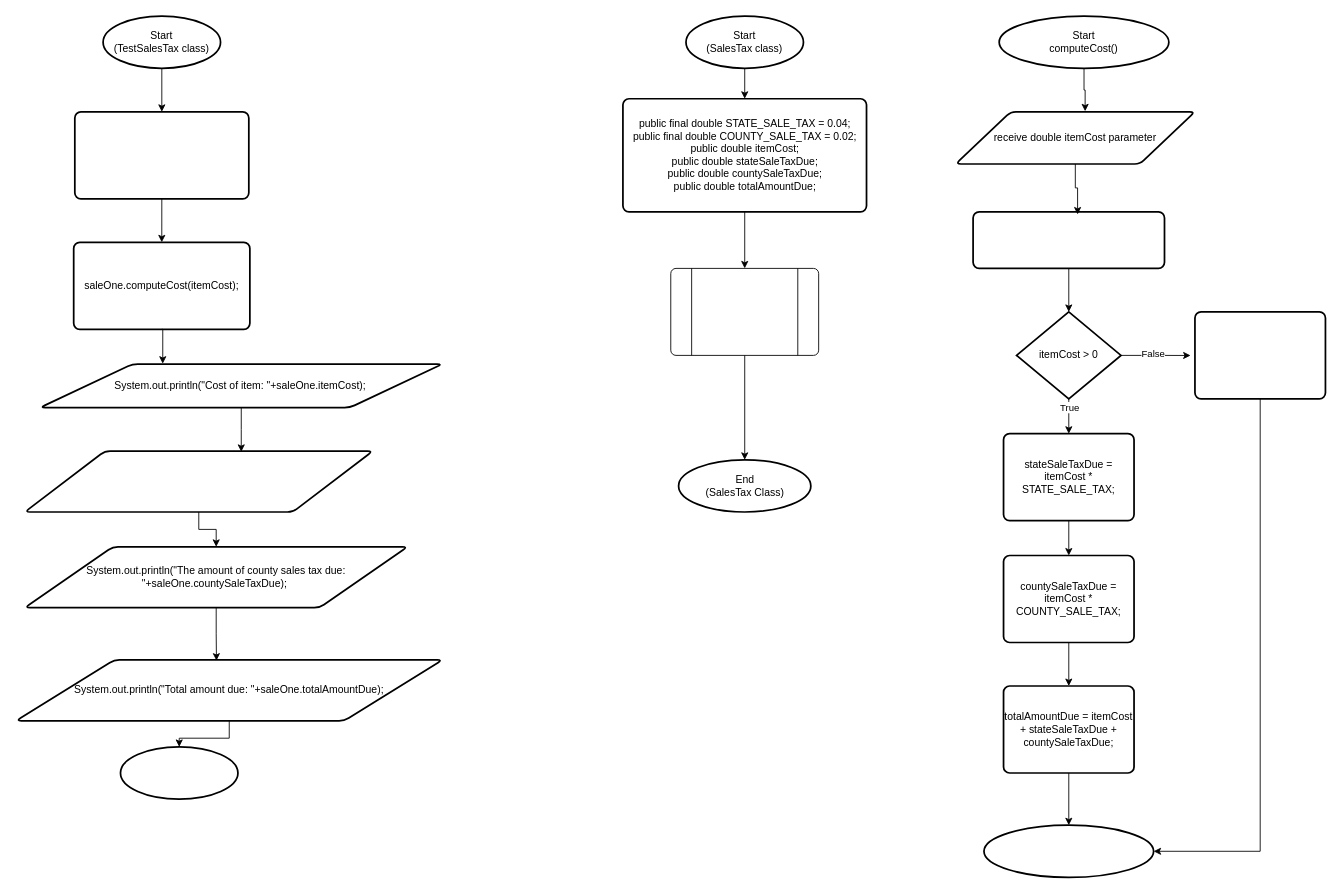
Some shapes in this 1341 by 893 pixel diagram are drawn without their labels. The shapes that lost their labels are listed below. From the top down, each one's box as (x1, y1, x2, y2) in pixels, then its label:
(74, 110, 249, 199): SalesTax saleOne = new SalesTax();
(972, 211, 1165, 269): this.itemCost = itemCost
(670, 268, 819, 355): computeCost()
(1194, 311, 1326, 399): return; (guard clause for negative prices)
(23, 450, 373, 512): System.out.println("amount of state sales tax due.: "+saleOne.stateSaleTaxDue);
(119, 746, 238, 800): End (TestSalesTax class)
(983, 824, 1154, 878): End
